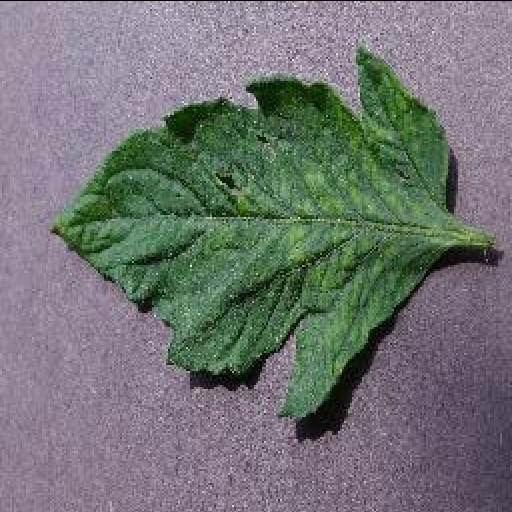Mosaic Virus: (46, 49, 452, 423)
